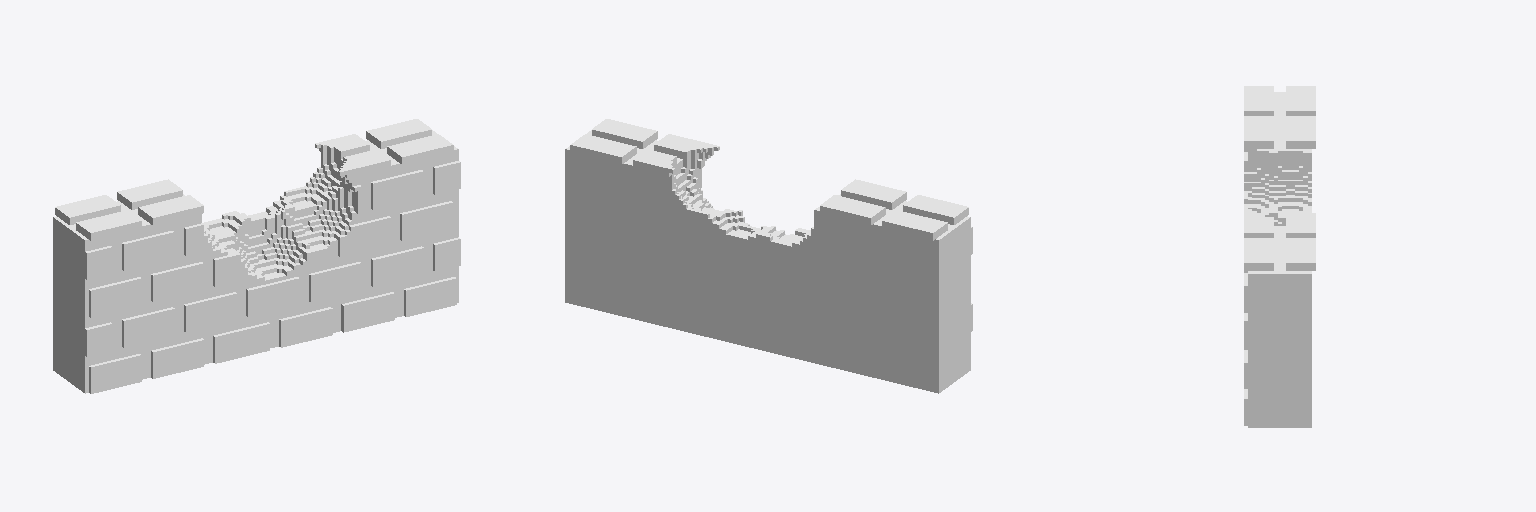
Rendered from Fence-2.obj.
3 views of the same model, side by side, from view 1: azimuth 30°, elevation 25°; view 2: azimuth 150°, elevation 25°; view 3: azimuth 270°, elevation 25° (orthographic).
Visible parts, largest first — view 1: object 1; view 2: object 1; view 3: object 1.
Boxes of the visible parts, x1,y1,x2,y2 form: object 1: [53, 119, 460, 393]; object 1: [565, 119, 972, 393]; object 1: [1244, 86, 1315, 427].
Size of the model in its own units: 10.2 by 4.2 by 1.7.